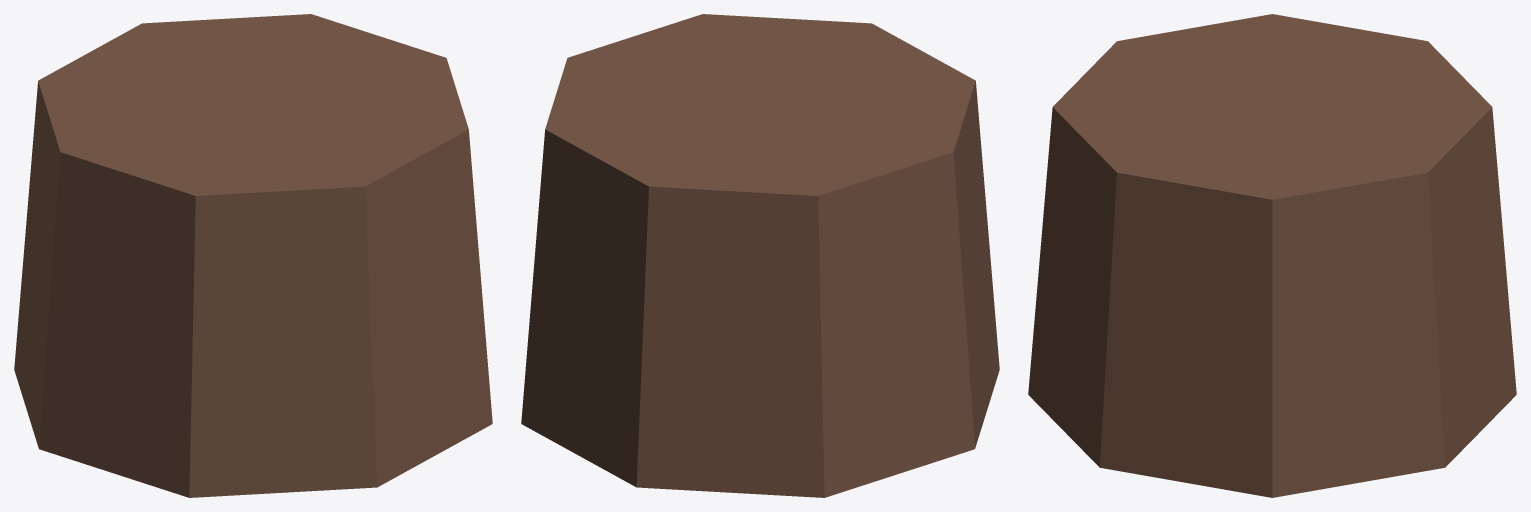
The model's file is seat.glb.
3 renders of one model, left to right at view 1: azimuth 30°, elevation 25°; view 2: azimuth 150°, elevation 25°; view 3: azimuth 270°, elevation 25°, orthographic.
Parts seen in each view (by area): view 1: LogSeatMesh; view 2: LogSeatMesh; view 3: LogSeatMesh.
Part boxes in pixels (x1,y1,x2,y2): LogSeatMesh: (14,14,492,497); LogSeatMesh: (521,14,999,497); LogSeatMesh: (1028,14,1516,497).
Bounding box in the file's own units: 1 × 0.65 × 1.
1 material, 1 textured.
